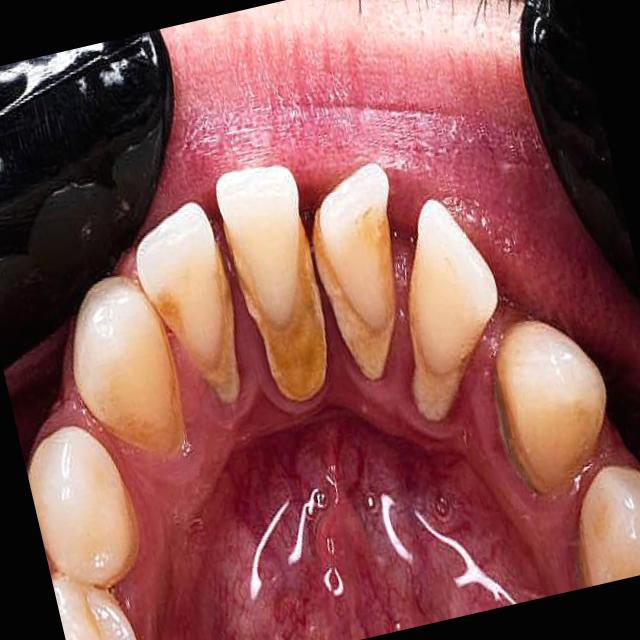calculus: (228, 232, 336, 414), (310, 210, 411, 388), (475, 333, 562, 514), (154, 266, 256, 418), (394, 266, 468, 428), (107, 373, 201, 486)
